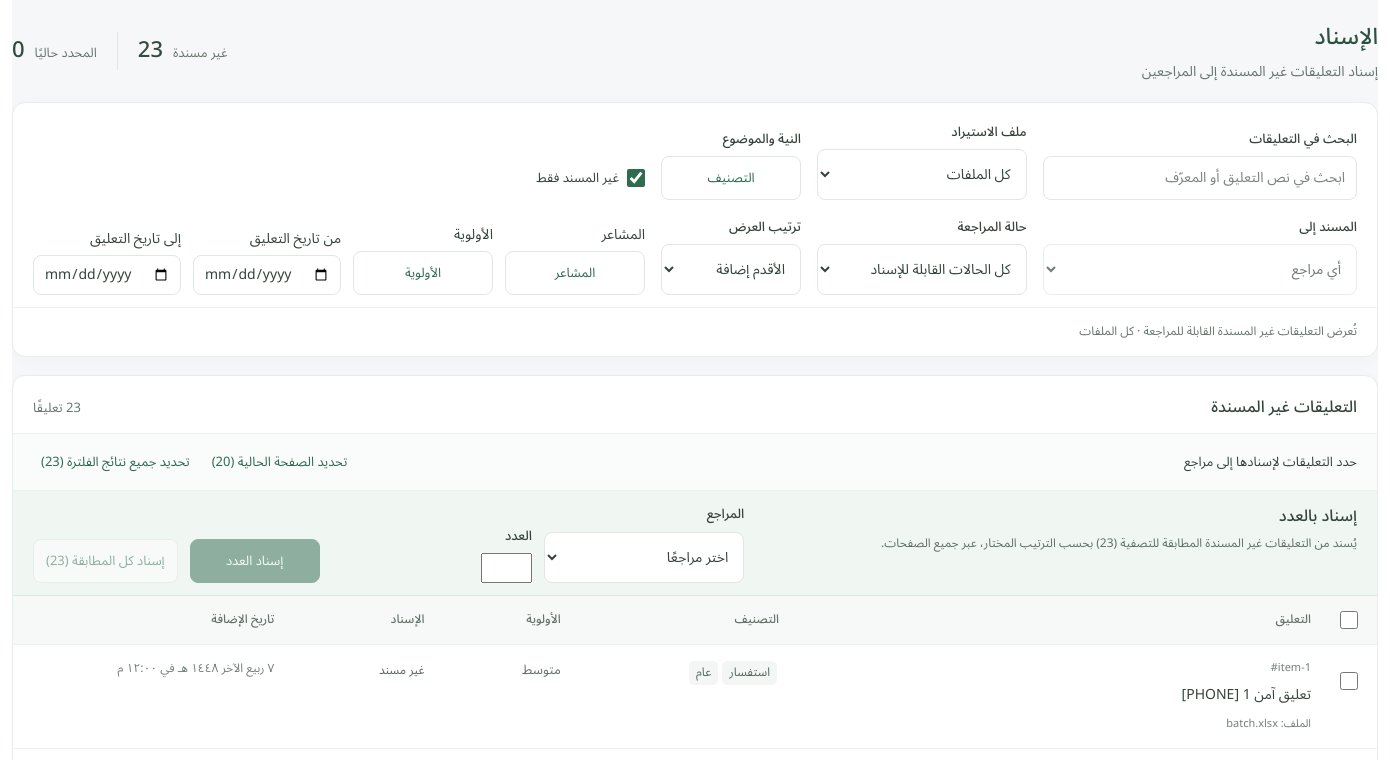
Scenario: Admin Assignment workspace › shows the shortfall reported by the server
The width and height of the screenshot is (1390, 760).
Expected: the checkbox named "تحديد item-1" is shown, 1340,672 -> 1358,690
Select "مراجع اختبار — 5 قيد الإنجاز" in the dropdown named "المراجع للإسناد بالعدد" at (644, 557), box 544,532 -> 744,583
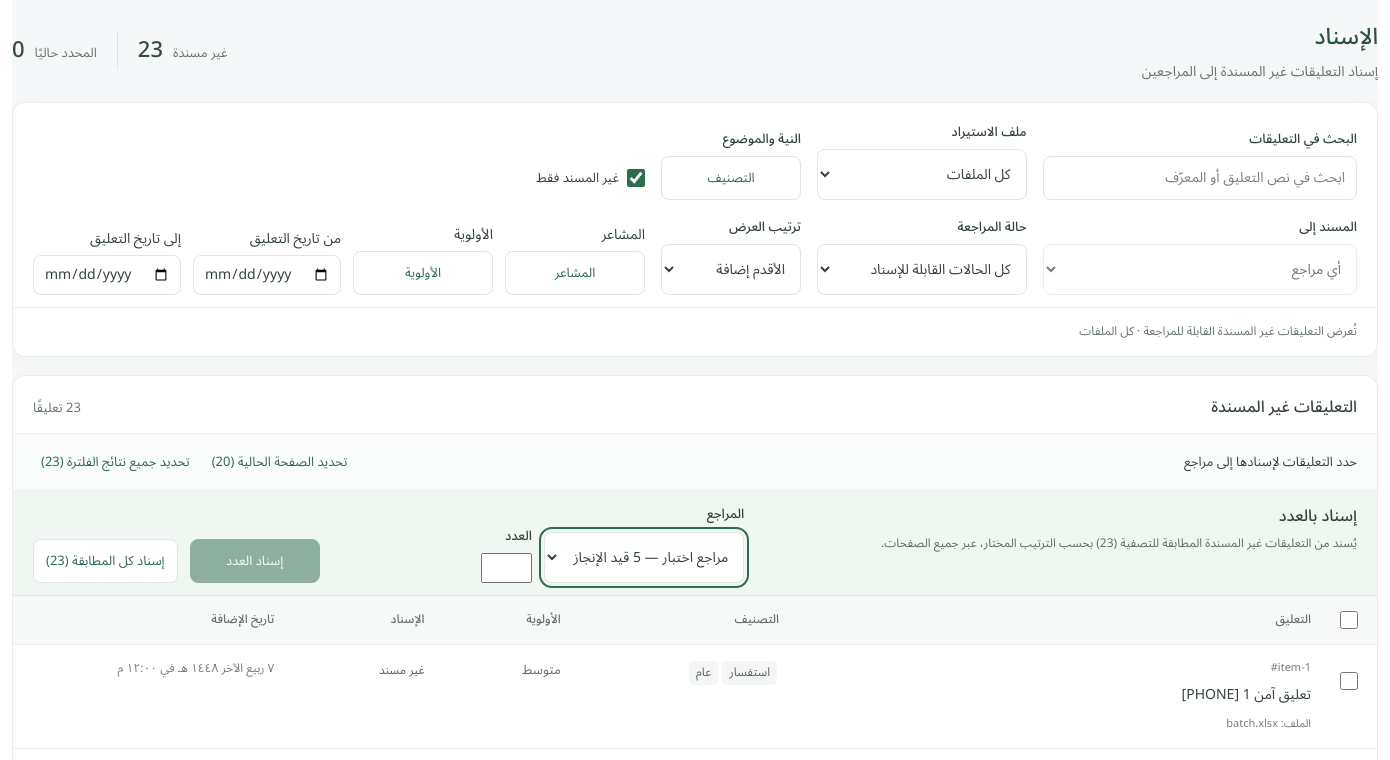
Type "10" into the number field named "عدد التعليقات المطلوب إسنادها" at (506, 568), box 481,553 -> 532,583
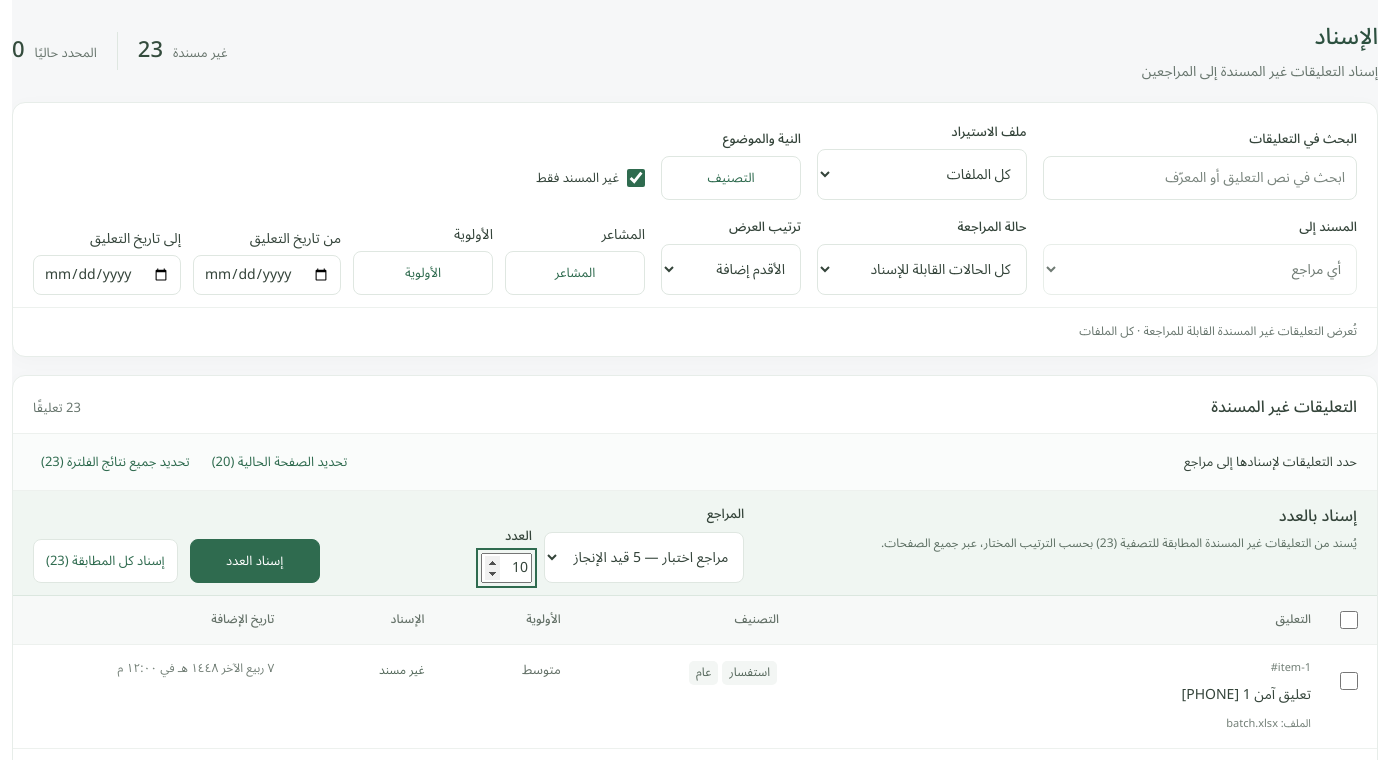
Click the button "إسناد العدد" at (255, 561), box 190,539 -> 320,583
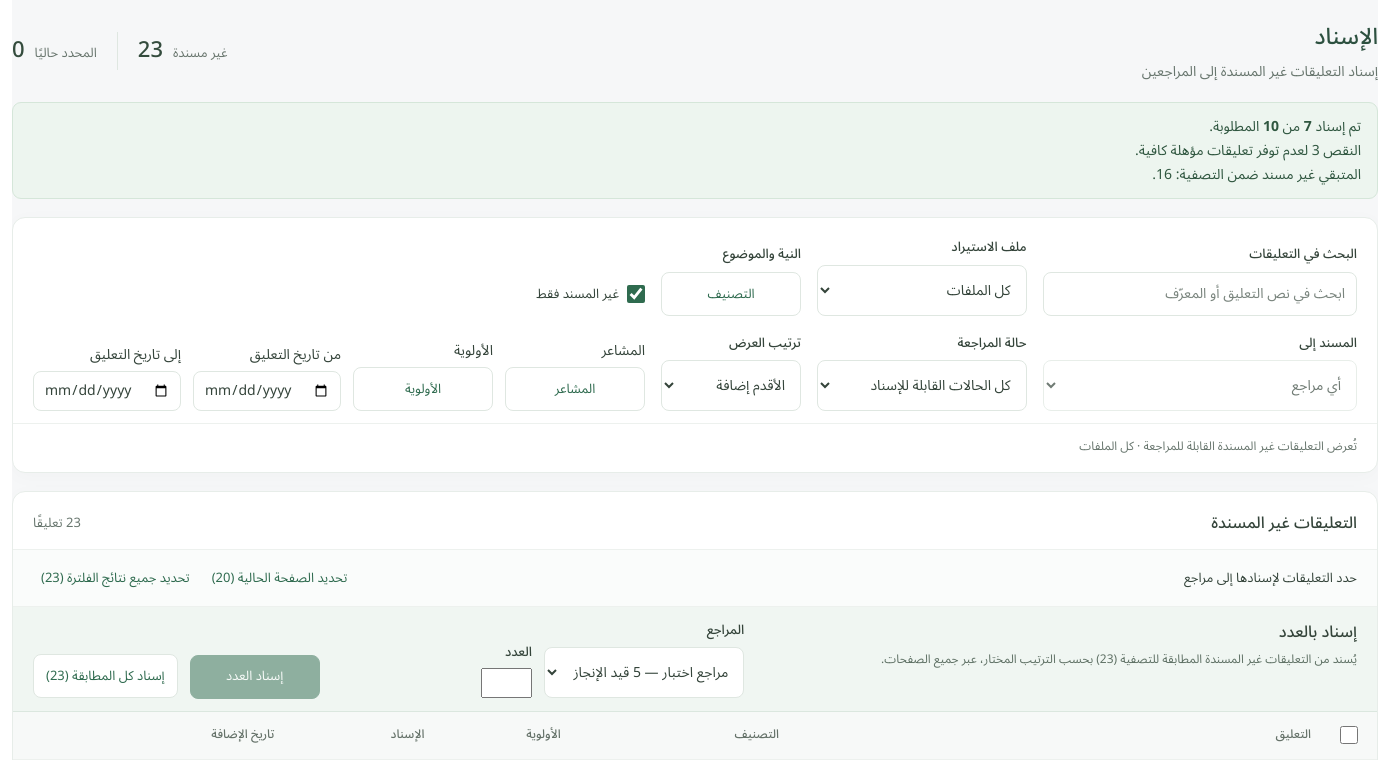
Expected: the text "النقص 3 لعدم توفر تعليقات مؤهلة كافية." is shown, 1135,136 -> 1361,165
Expected: the text "تم إسناد 7 من 10 المطلوبة." is shown, 1209,112 -> 1361,141
